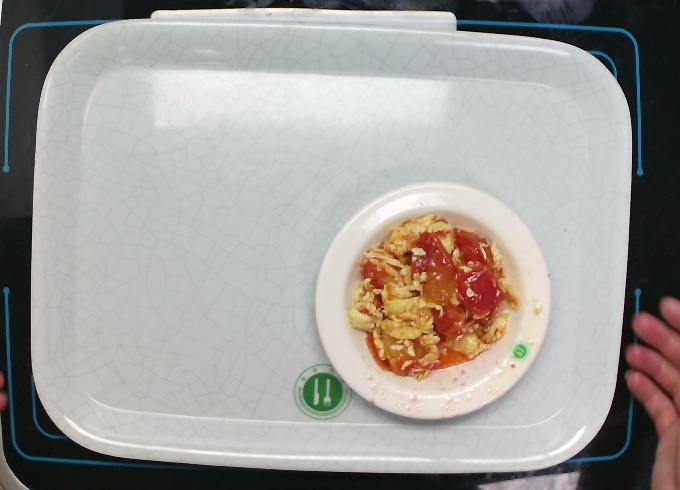WCQzf-Kuan_Bian_Yuan_Die: (309, 181, 552, 422)
